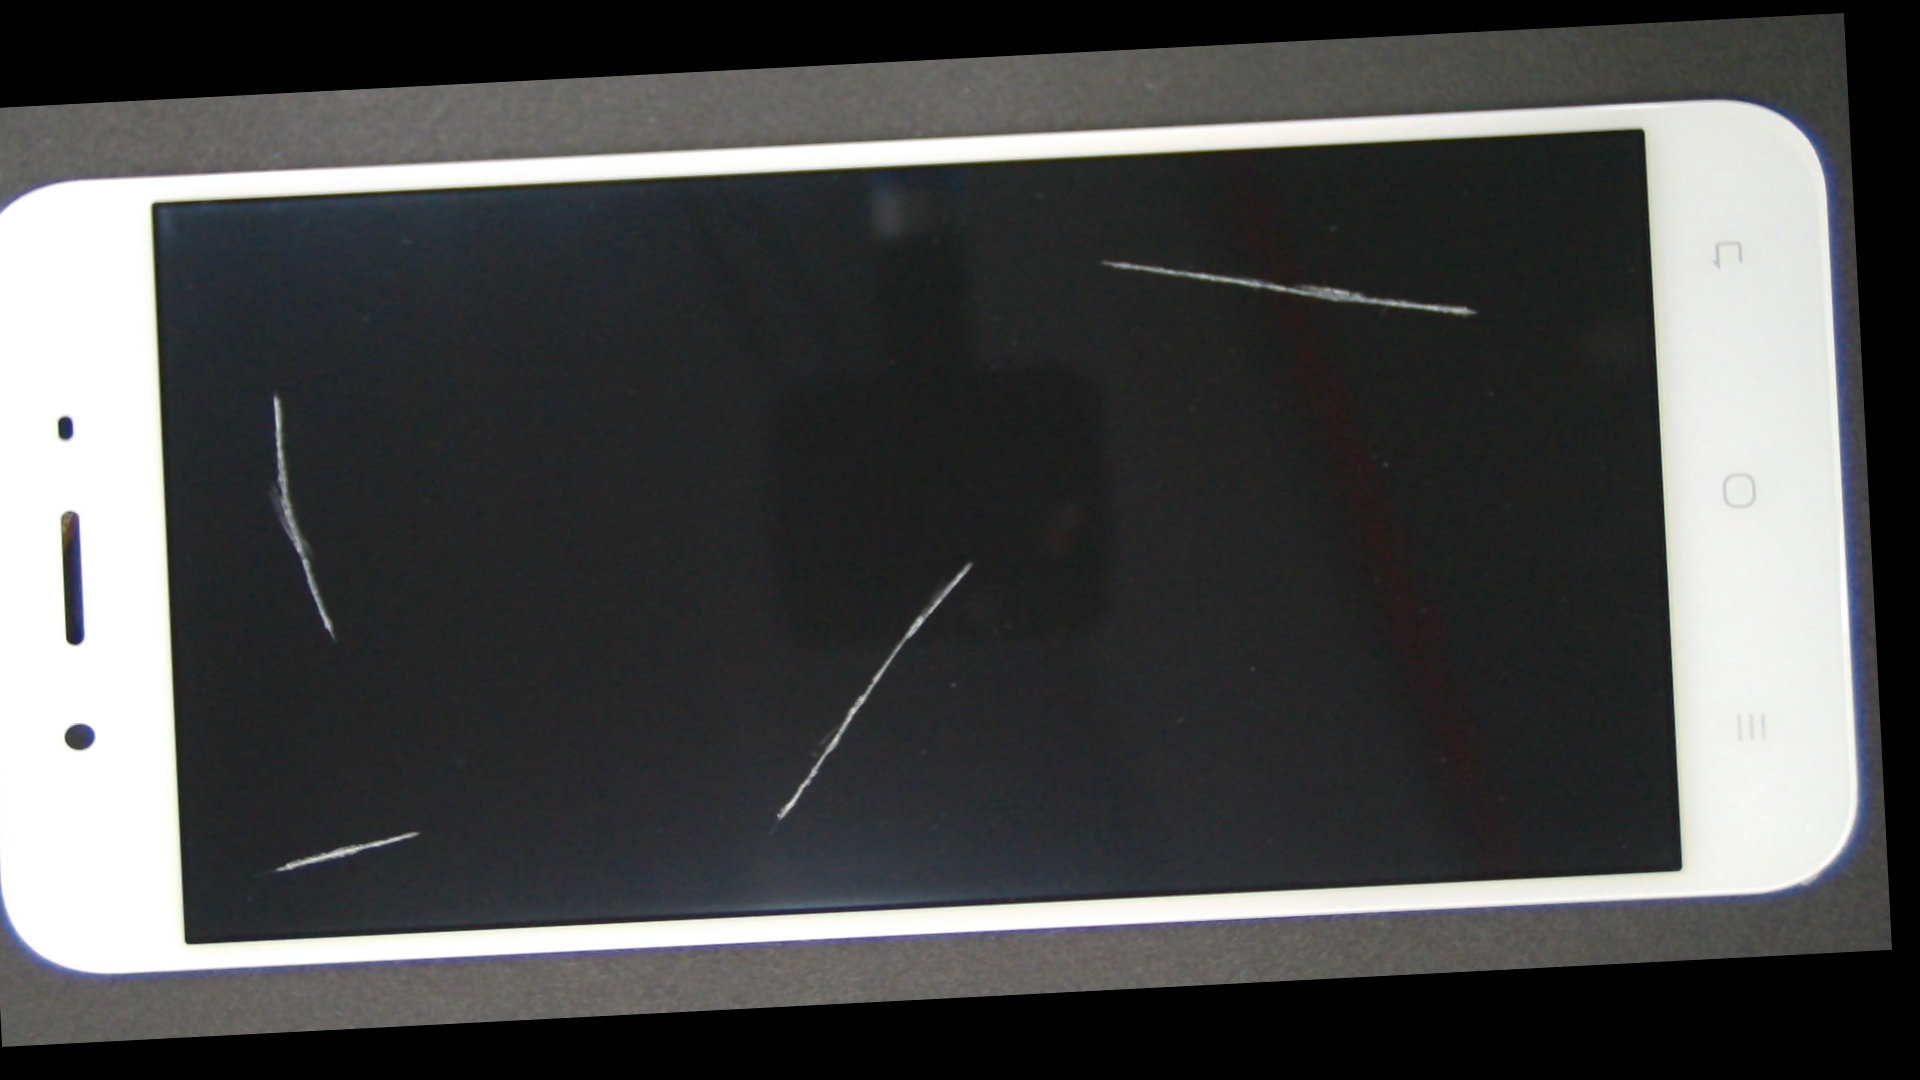oil: (463, 284, 1480, 837), (529, 125, 1677, 392), (182, 448, 626, 1036), (113, 236, 434, 550)
